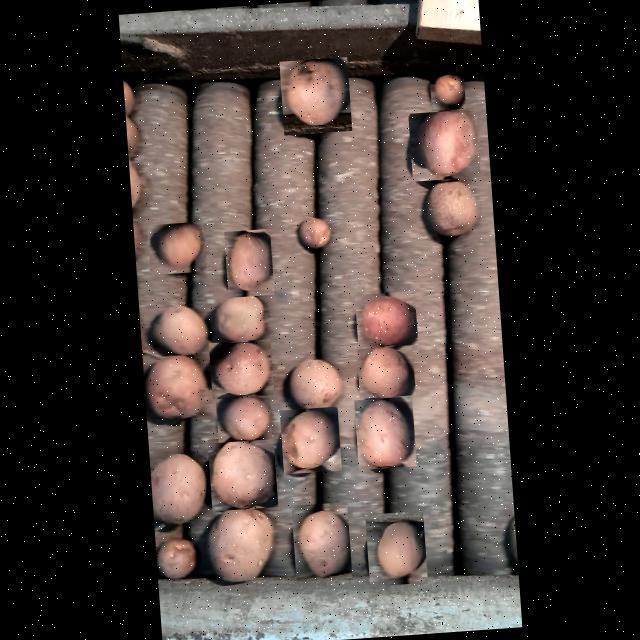Diseased-fungal potato: (200, 498, 278, 586), (279, 56, 352, 134), (207, 434, 278, 510), (408, 108, 480, 180), (141, 348, 211, 422), (150, 445, 212, 525), (291, 500, 352, 580), (364, 509, 428, 585), (418, 176, 487, 243), (354, 394, 416, 468), (280, 405, 342, 473), (208, 338, 274, 398), (144, 299, 212, 357), (282, 352, 345, 413), (354, 290, 418, 348), (210, 288, 271, 344), (224, 228, 274, 296), (356, 342, 415, 398), (147, 220, 206, 274), (215, 392, 272, 442), (154, 531, 198, 590), (291, 208, 331, 256), (428, 66, 466, 110)
